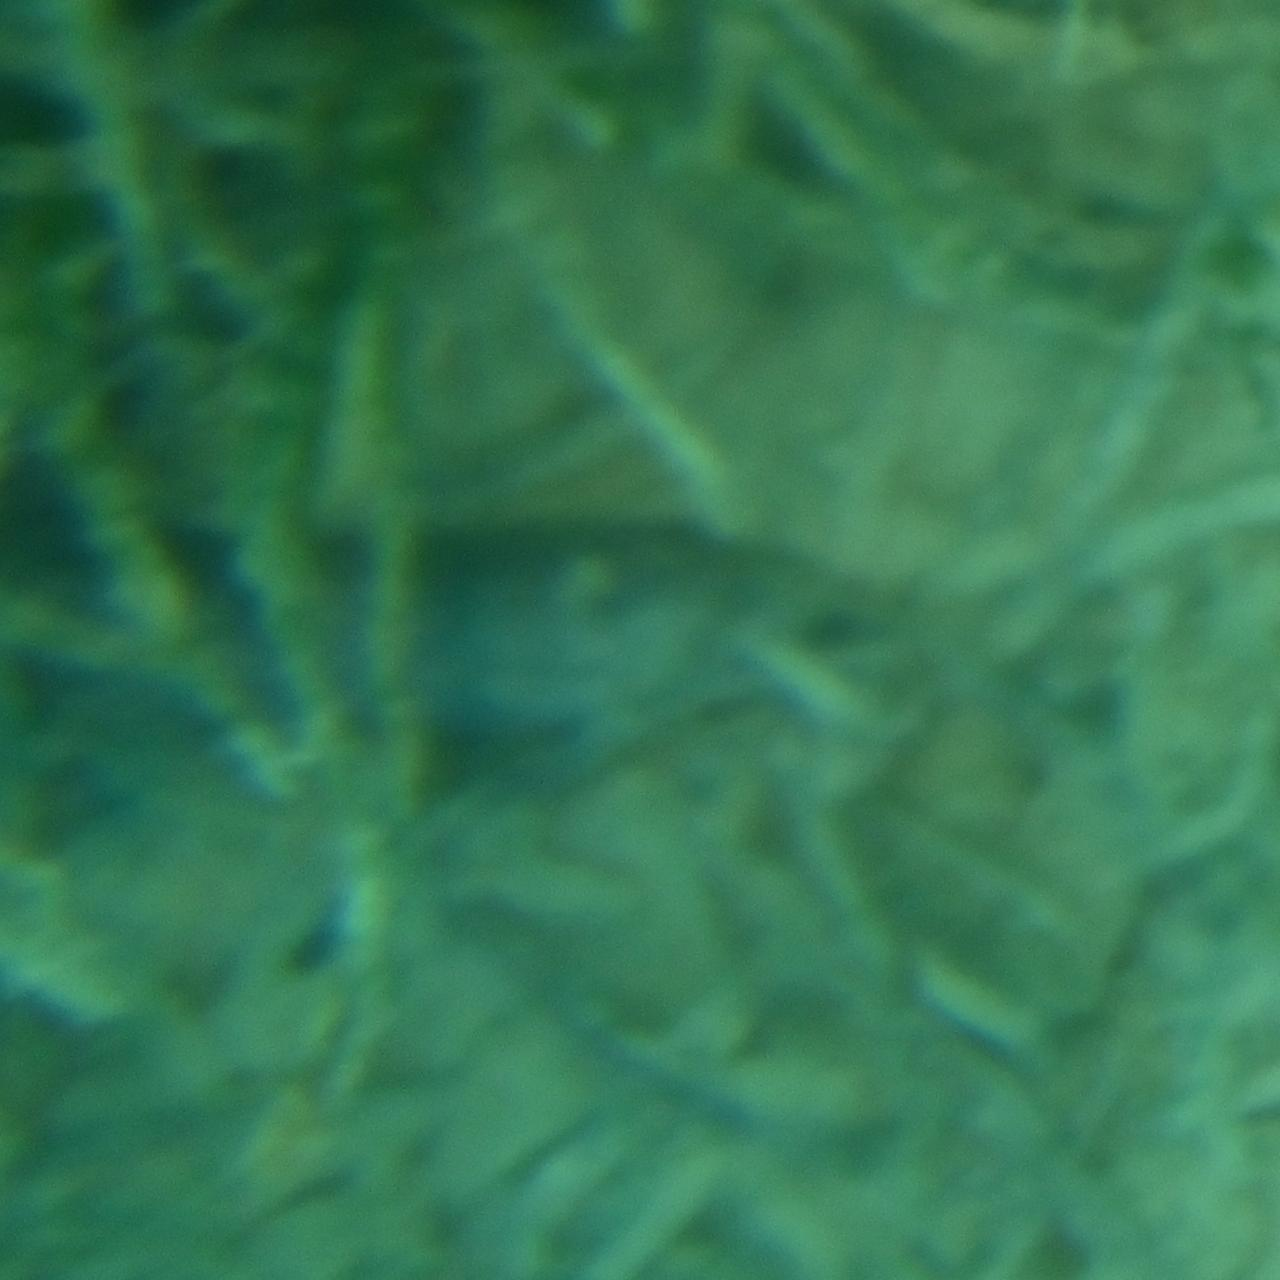Holothuria tubulosa: (0, 508, 915, 772)
